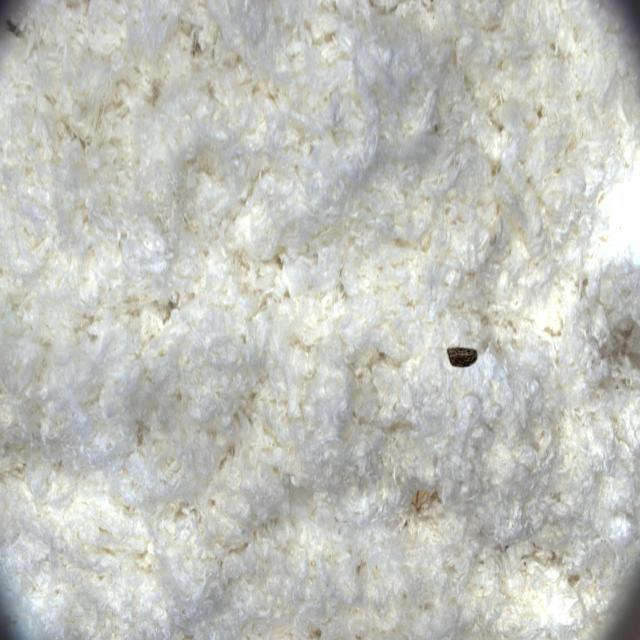dust: (424, 296, 505, 407)
